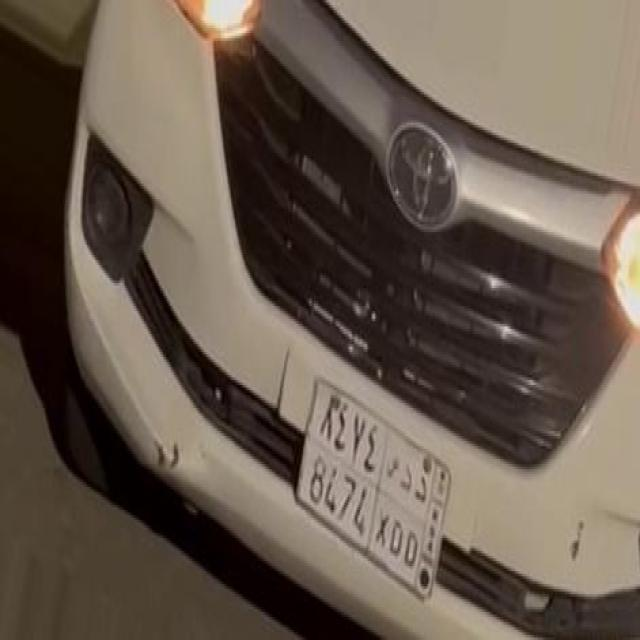Car-plate: (276, 347, 463, 627)
